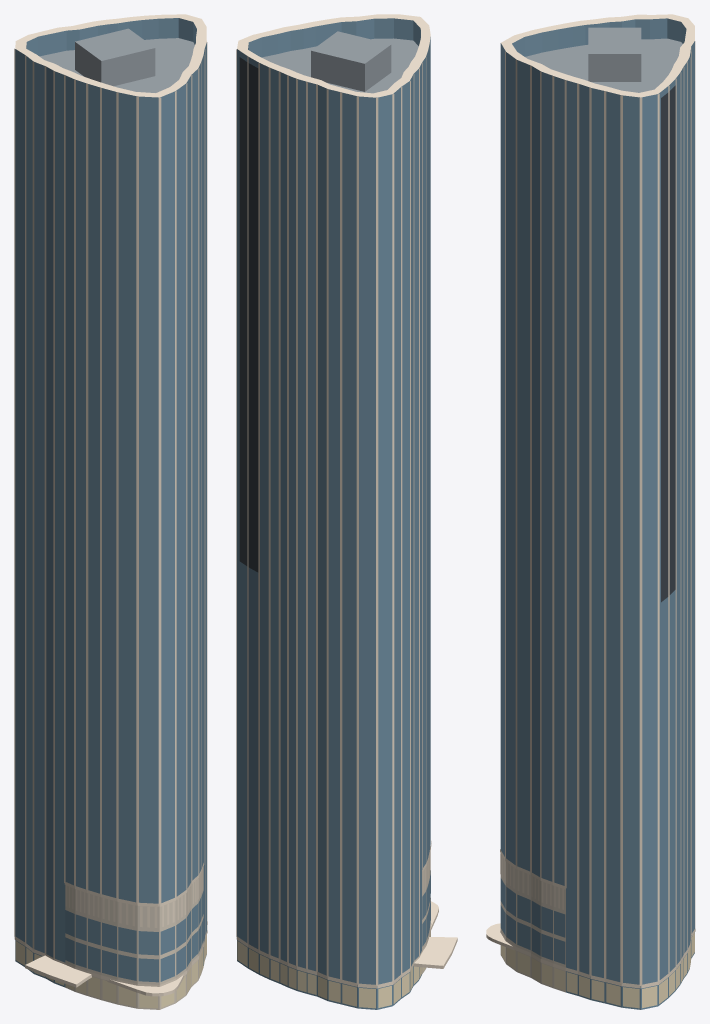
File: bos-one-dalton.glb
3 renders of one model, left to right at view 1: azimuth 30°, elevation 25°; view 2: azimuth 150°, elevation 25°; view 3: azimuth 270°, elevation 25°, orthographic.
Parts seen in each view (by area): view 1: One Dalton; view 2: One Dalton; view 3: One Dalton.
Part boxes in pixels (x1=…): One Dalton: x1=14, y1=14, x2=207, y2=1009; One Dalton: x1=236, y1=14, x2=457, y2=1009; One Dalton: x1=486, y1=14, x2=695, y2=1009.
Size of the model in its own units: 49.85 by 229 by 47.27.
